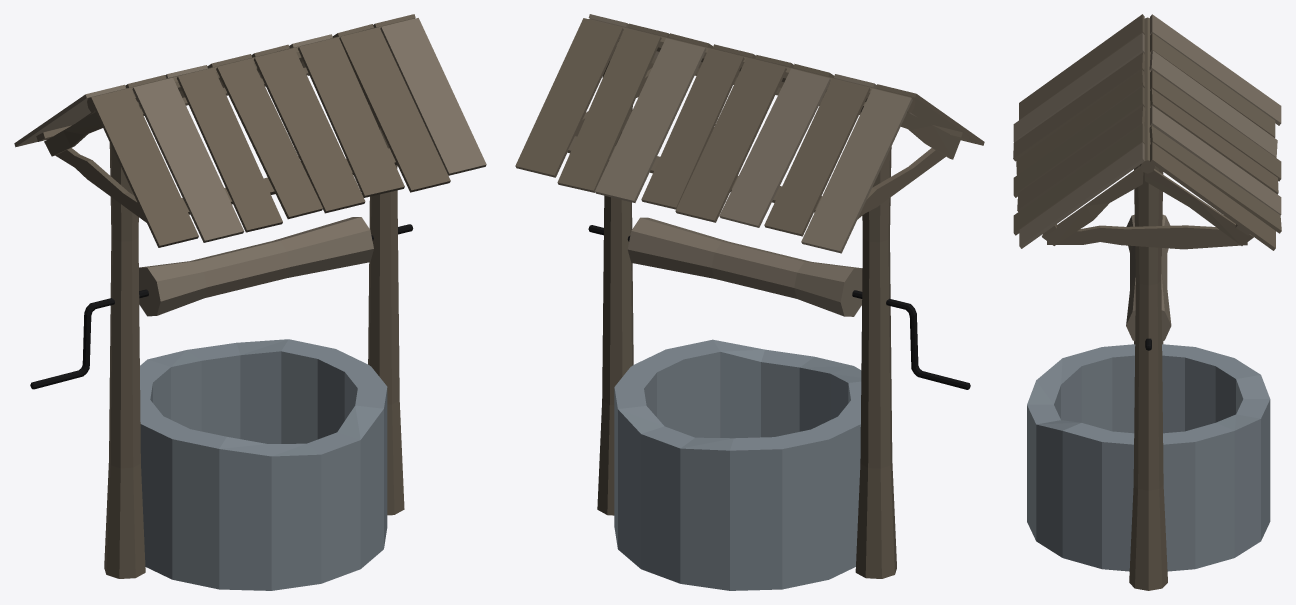
The model's file is well.glb.
The picture shows the model from 3 angles, left to right: view 1: azimuth 30°, elevation 25°; view 2: azimuth 150°, elevation 25°; view 3: azimuth 270°, elevation 25°; orthographic projection. The views are drawn at different scales.
Visible parts, largest first — view 1: Well; view 2: Well; view 3: Well.
Part boxes in pixels (x1,y1,x2,y2): Well: [14, 14, 486, 590]; Well: [515, 14, 984, 590]; Well: [1013, 14, 1281, 590].
Size of the model in its own units: 2.15 by 2.58 by 1.44.
Materials: 1 (1 with a texture image).
